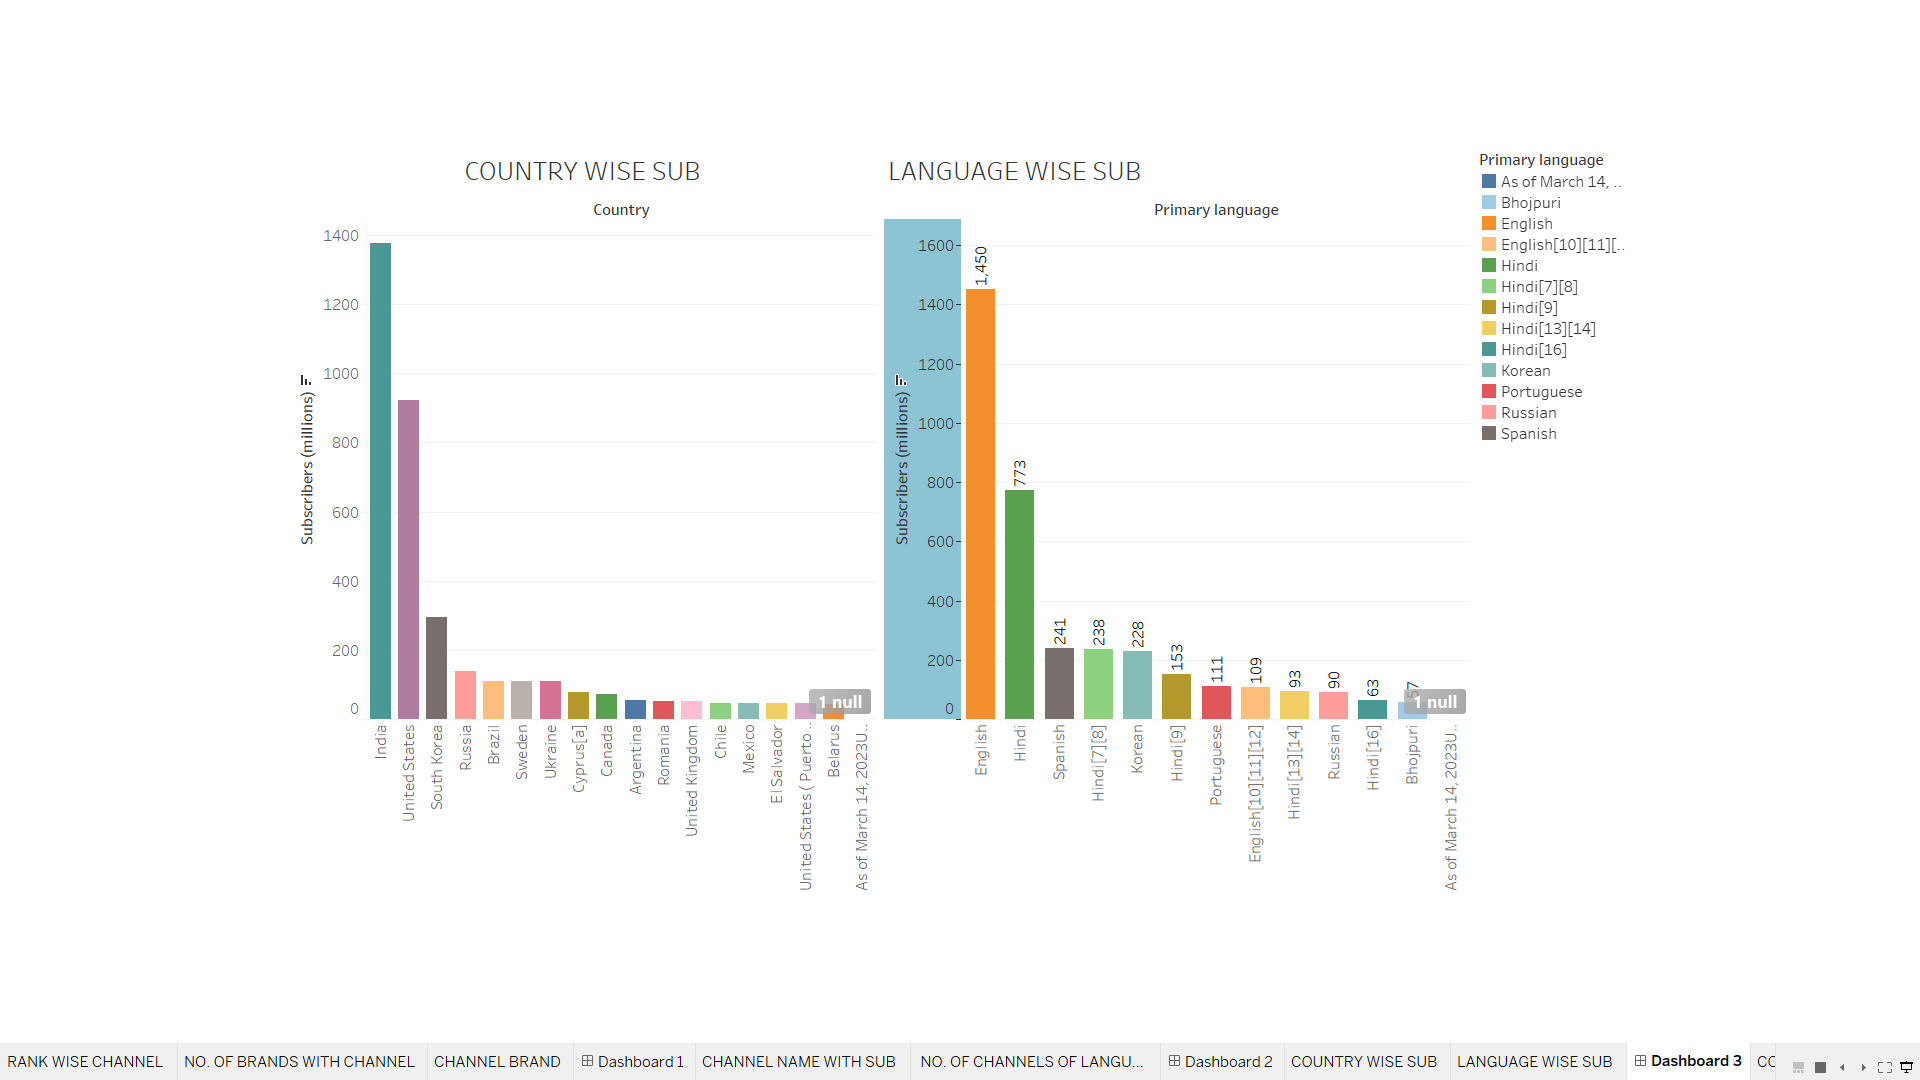

Layout of this report page (visuals, bound fields, positions):
{"tool":"tableau","page":{"name":"Dashboard 3","canvas":[1366,768],"ordinal":2},"visuals":[{"type":"worksheet","title":"COUNTRY WISE SUB","mark":"Automatic","rows":["Subscribers (millions)"],"cols":["Country"],"box":[8,8,595,752]},{"type":"worksheet","title":"LANGUAGE WISE SUB","mark":"Automatic","rows":["Subscribers (millions)"],"cols":["Primary language"],"box":[603,8,595,752]},{"type":"legend","title":"LANGUAGE WISE SUB","param":"[federated.1kwdbhw1eljqcs1cayi8c0mah2rt].[none:Primary language:nk]","box":[1198,8,160,303]}]}

Visuals, with their boxes on the page's 1366x768 design canvas (x1, y1, x2, y2). These are canvas units, not pixel positions in the 1920x1080 screenshot, which may show the page scaled, cropped or inside an application window:
"COUNTRY WISE SUB" worksheet: 8 8 603 760
"LANGUAGE WISE SUB" worksheet: 603 8 1198 760
"LANGUAGE WISE SUB" legend: 1198 8 1358 311
